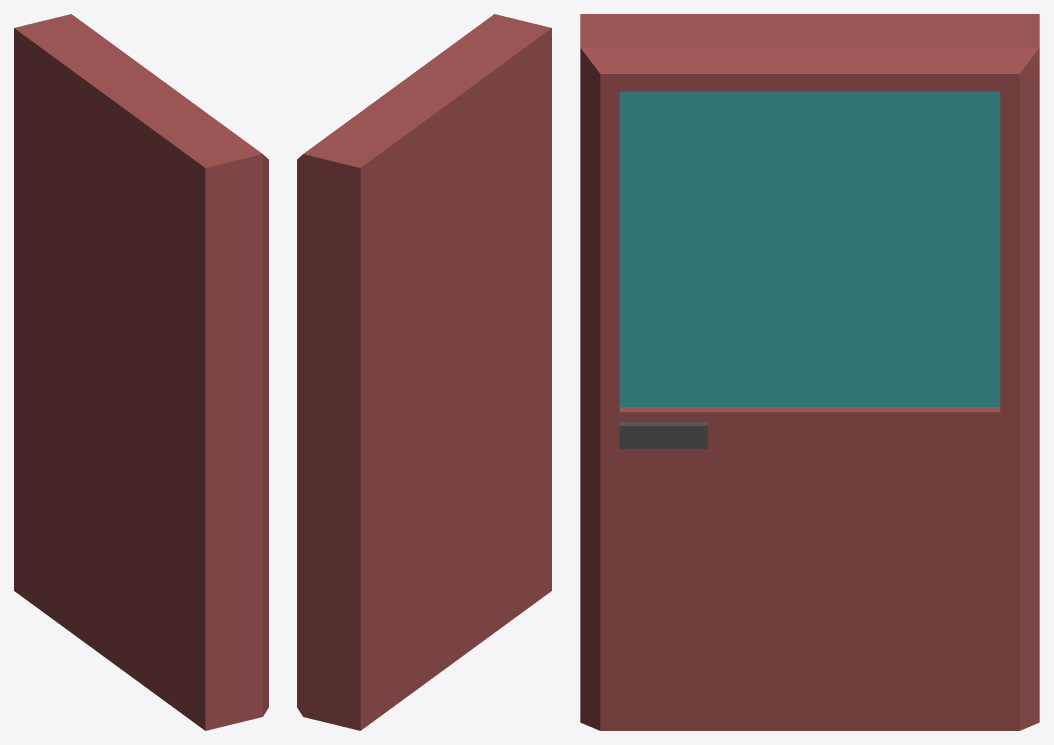
File: Door.fbx
3 views of the same model, side by side, from view 1: azimuth 30°, elevation 25°; view 2: azimuth 150°, elevation 25°; view 3: azimuth 270°, elevation 25° (orthographic). The views are drawn at different scales.
Parts seen in each view (by area): view 1: Door; view 2: Door; view 3: Door.
Part boxes in pixels (bbox=[...]): Door: bbox=[14, 14, 268, 730]; Door: bbox=[297, 14, 551, 730]; Door: bbox=[580, 14, 1039, 730].
Bounding box in the file's own units: 9.54 × 65.5 × 40.37.
